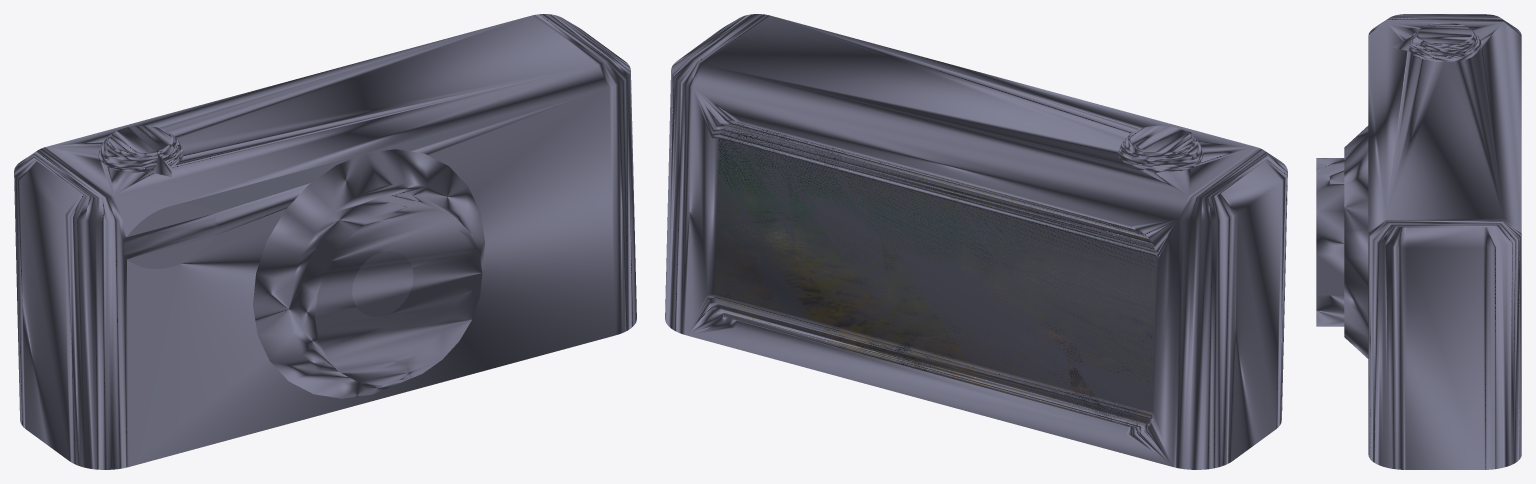
The model's file is model_align.obj.
3 renders of one model, left to right at view 1: azimuth 30°, elevation 25°; view 2: azimuth 150°, elevation 25°; view 3: azimuth 270°, elevation 25°, orthographic. The views are drawn at different scales.
Size of the model in its own units: 0.1443 by 0.0691 by 0.0515.
Materials: 8 (8 with a texture image).
